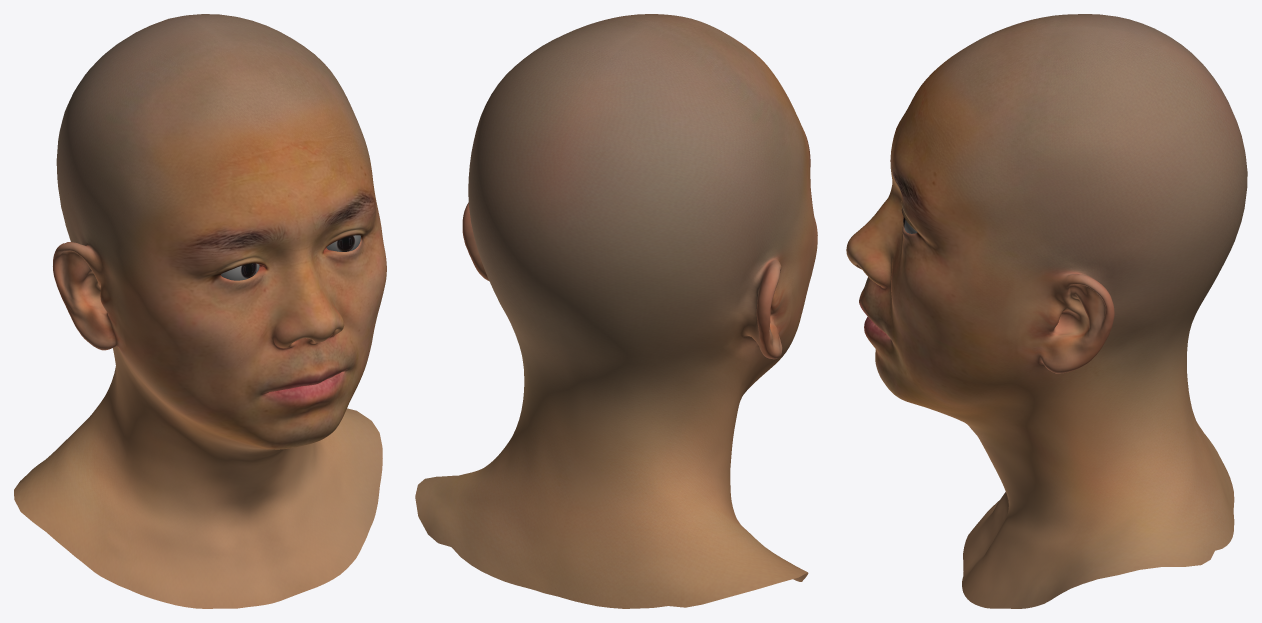
The picture shows the model from 3 angles, left to right: view 1: azimuth 30°, elevation 25°; view 2: azimuth 150°, elevation 25°; view 3: azimuth 270°, elevation 25°; orthographic projection. The views are drawn at different scales.
Parts seen in each view (by area): view 1: Registered head; view 2: Registered head; view 3: Registered head.
Part boxes in pixels (left/top/right/bottom): Registered head: left=14, top=14, right=386, bottom=608; Registered head: left=415, top=14, right=817, bottom=608; Registered head: left=846, top=14, right=1247, bottom=608.
Size of the model in its own units: 1.29 by 1.88 by 1.25.
Materials: 3 (3 with a texture image).
